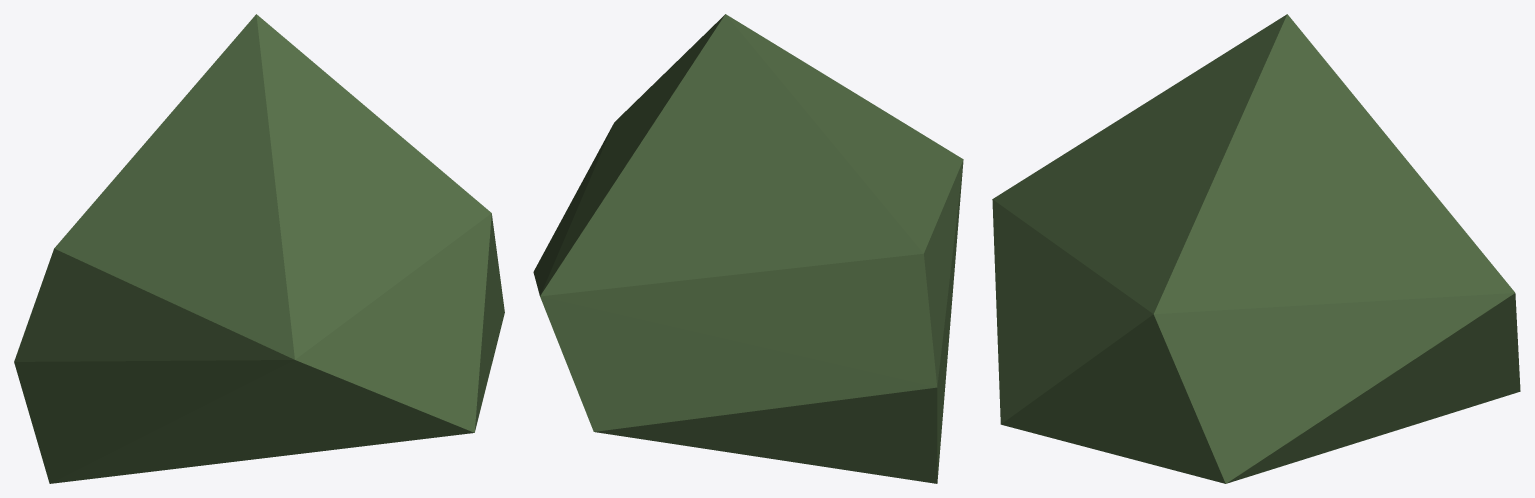
3 renders of one model, left to right at view 1: azimuth 30°, elevation 25°; view 2: azimuth 150°, elevation 25°; view 3: azimuth 270°, elevation 25°, orthographic. The views are drawn at different scales.
Visible parts, largest first — view 1: cube-042; view 2: cube-042; view 3: cube-042.
Boxes of the visible parts, left/top/right/bottom form: cube-042: left=14, top=14, right=504, bottom=483; cube-042: left=533, top=14, right=963, bottom=483; cube-042: left=992, top=14, right=1520, bottom=483.
Size of the model in its own units: 1.33 by 1.19 by 1.28.
